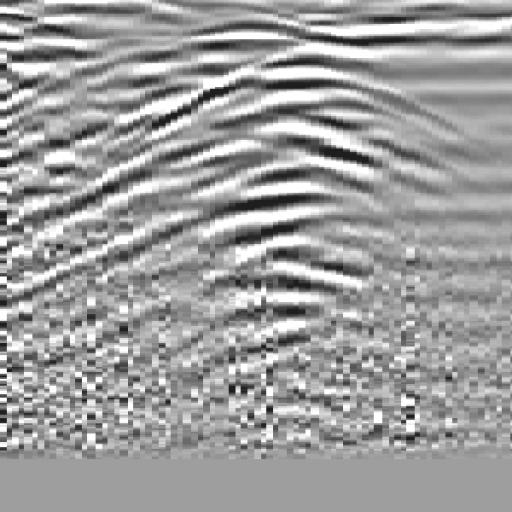metalic: (1, 34, 512, 382)
